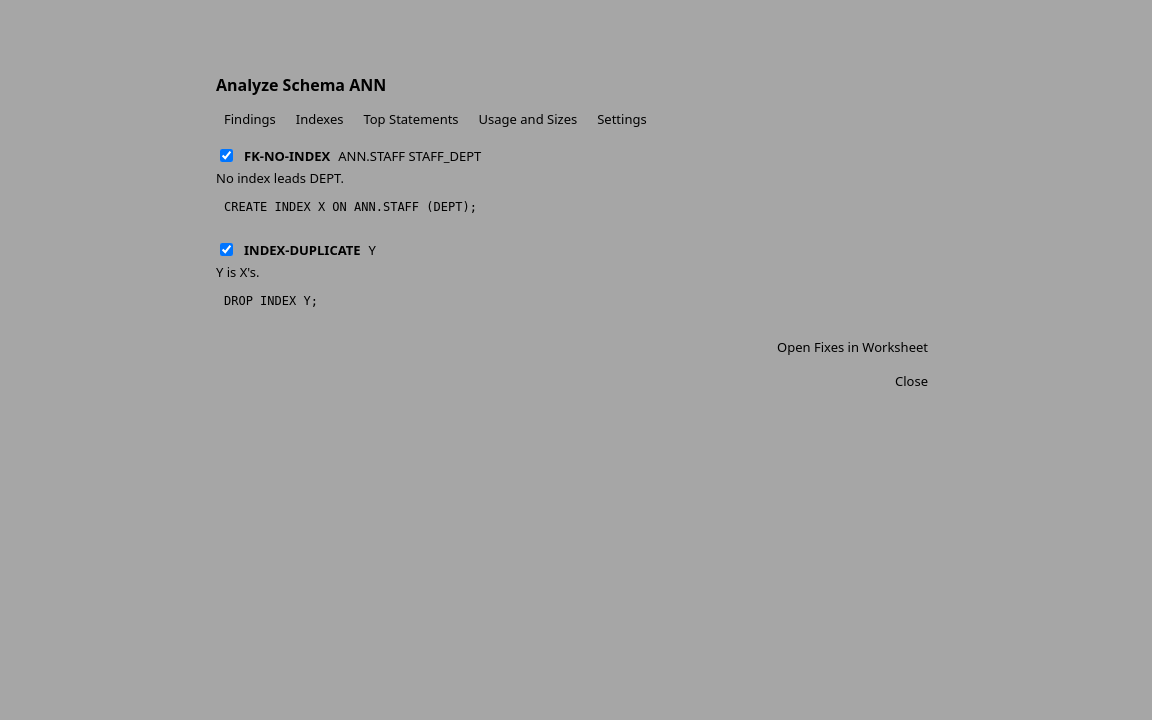
Test case: the analyzer of a schema › shows its findings, indexes, settings and what waits on the server, and opens the fixes chosen [DESIGN] D50
Earlier steps of the test are not shown.
Later steps or results of the test are not shown.
Click the tab "Indexes" at (320, 119), box [288,108,352,130]
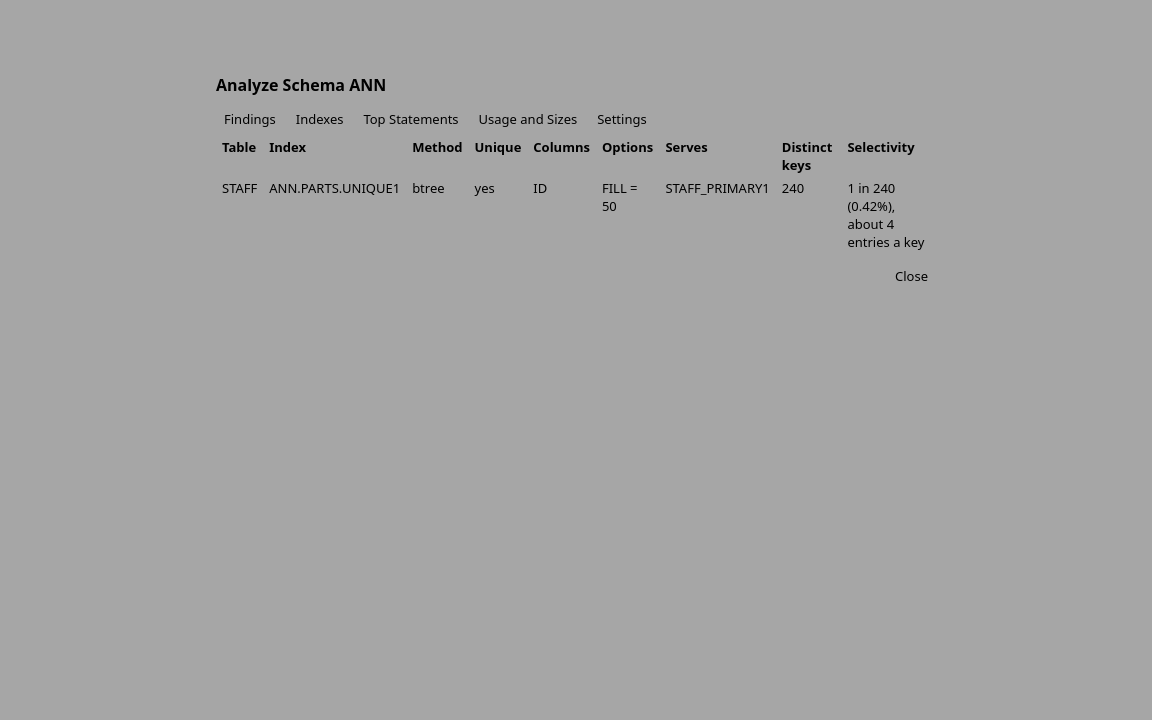
Result: the text "STAFF_PRIMARY1" is shown at [659,176,776,253]
Result: the text "FILL = 50" is shown at [596,176,659,253]
Result: the text "1 in 240 (0.42%), about 4 entries a key" is shown at [841,176,936,253]
Click the tab "Settings" at (622, 119), box [589,108,655,130]
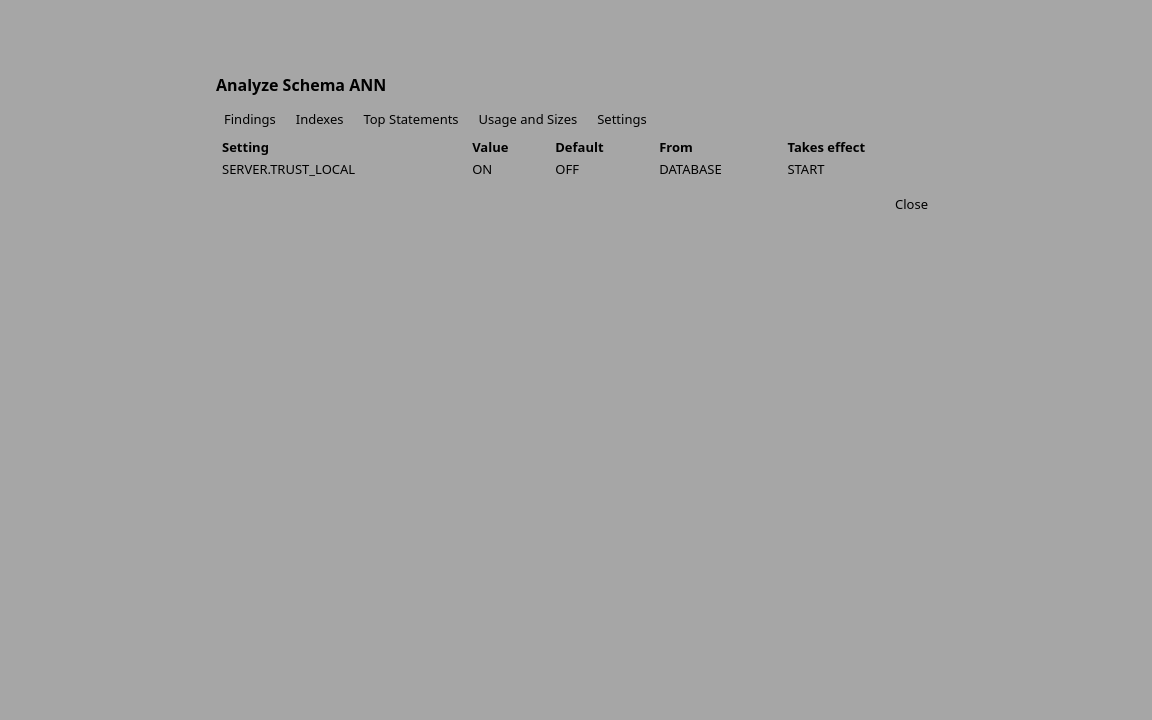
Result: the text "SERVER.TRUST_LOCAL" is shown at [216,158,466,181]
